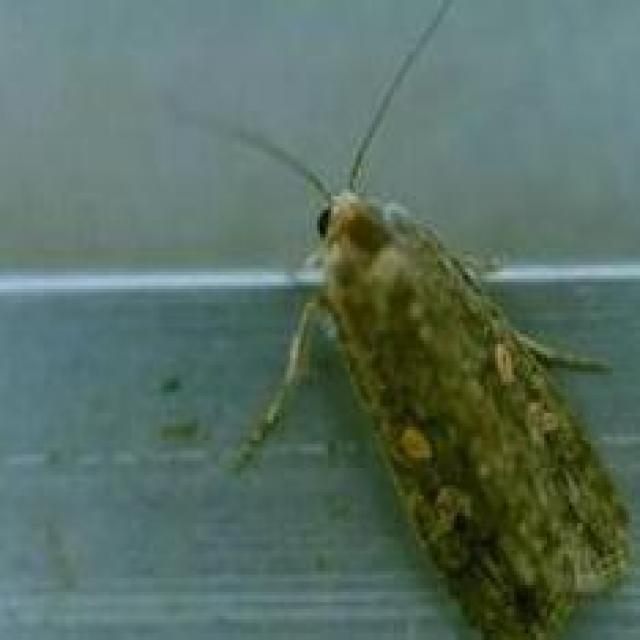BeetArmyWorm-Adult-: (217, 76, 637, 636)
